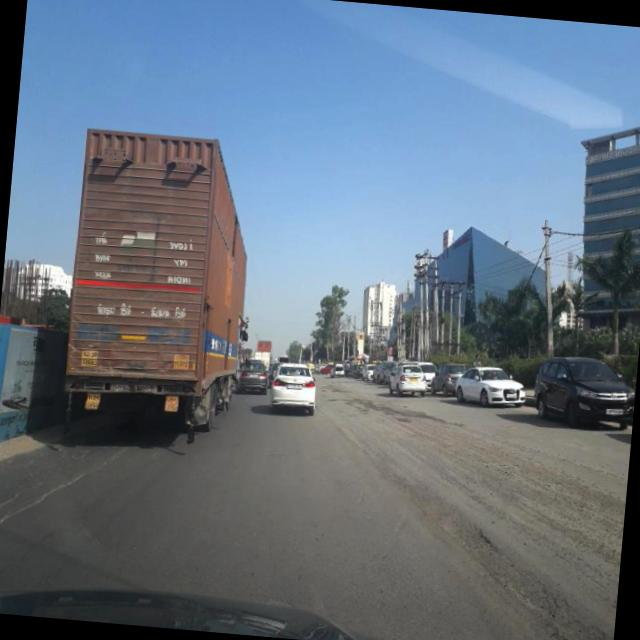crack: (0, 433, 119, 548)
pothole: (0, 446, 105, 541)
